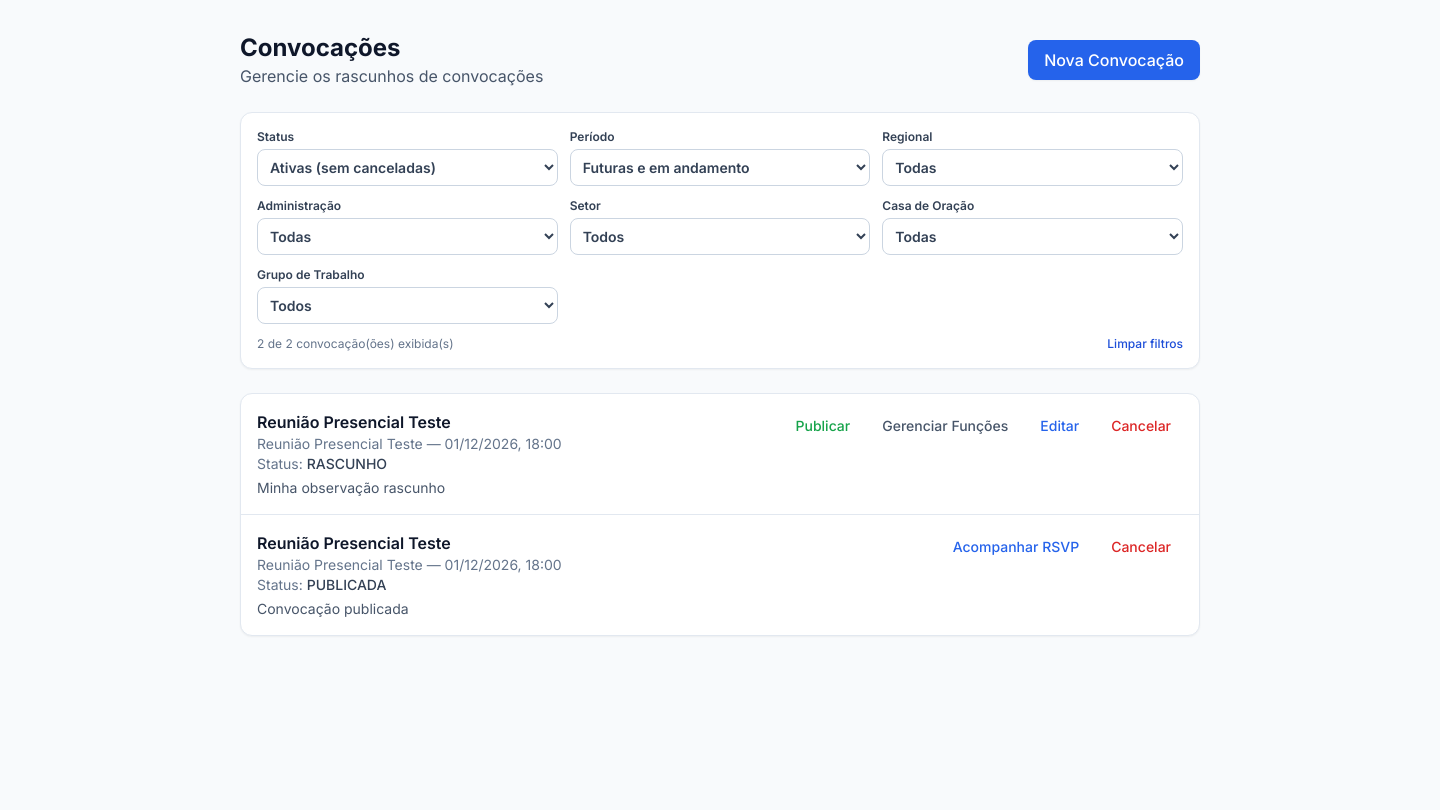
Scenario: ConvocacoesView › Gestão de Funções do Rascunho › deve exibir listas vazias e permitir adicionar/remover função
Expected: the text "Minha observação rascunho" is shown, [257,479,445,496]
Click the button "Gerenciar Funções" at x=945, y=426, box [870,410,1020,442]
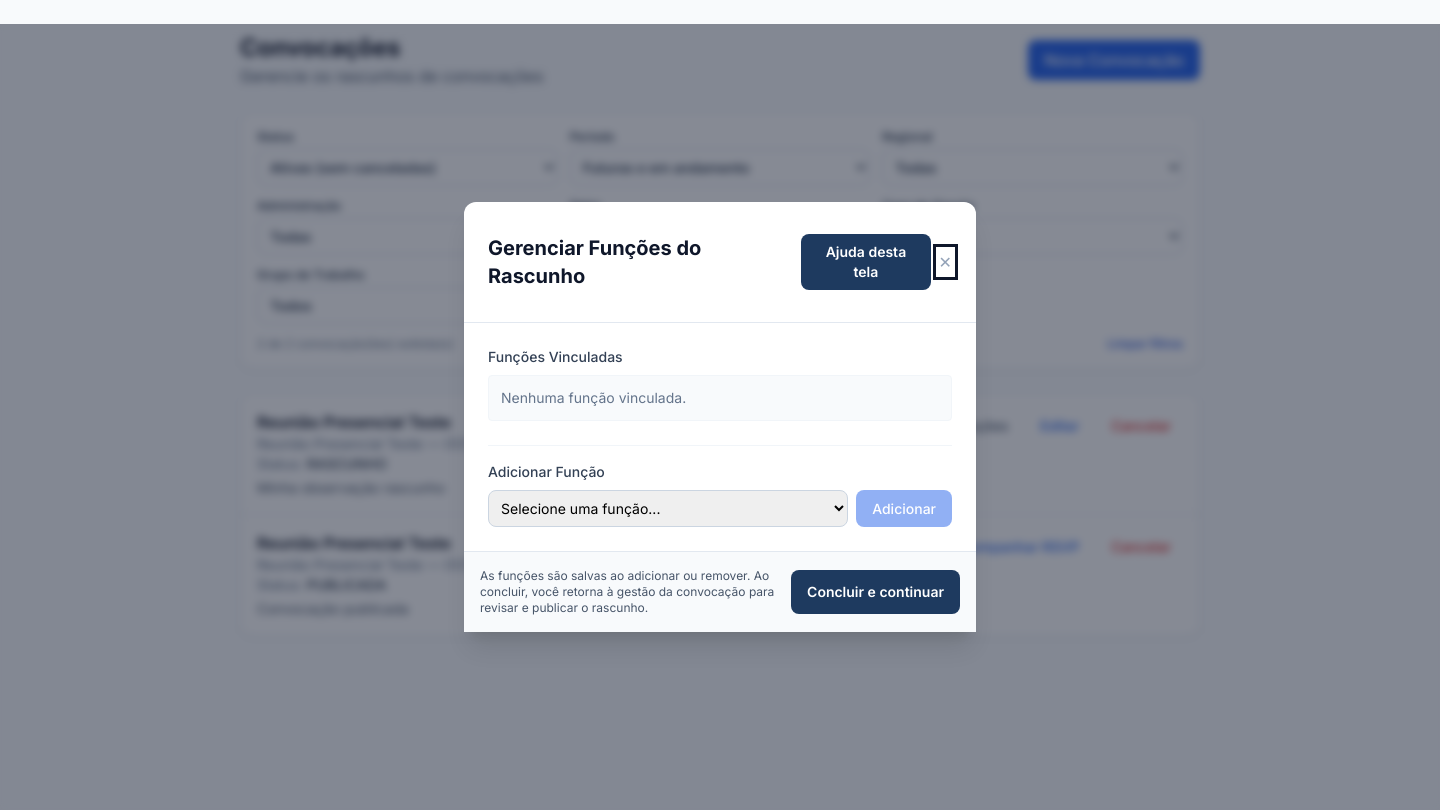
Now the dialog "Gerenciar Funções do Rascunho" is shown
Now the text "Nenhuma função vinculada." is shown, box [488,375,952,421]
Select "Músico" in the dropdown named "Função para adicionar" at x=668, y=508, box [488,490,848,527]
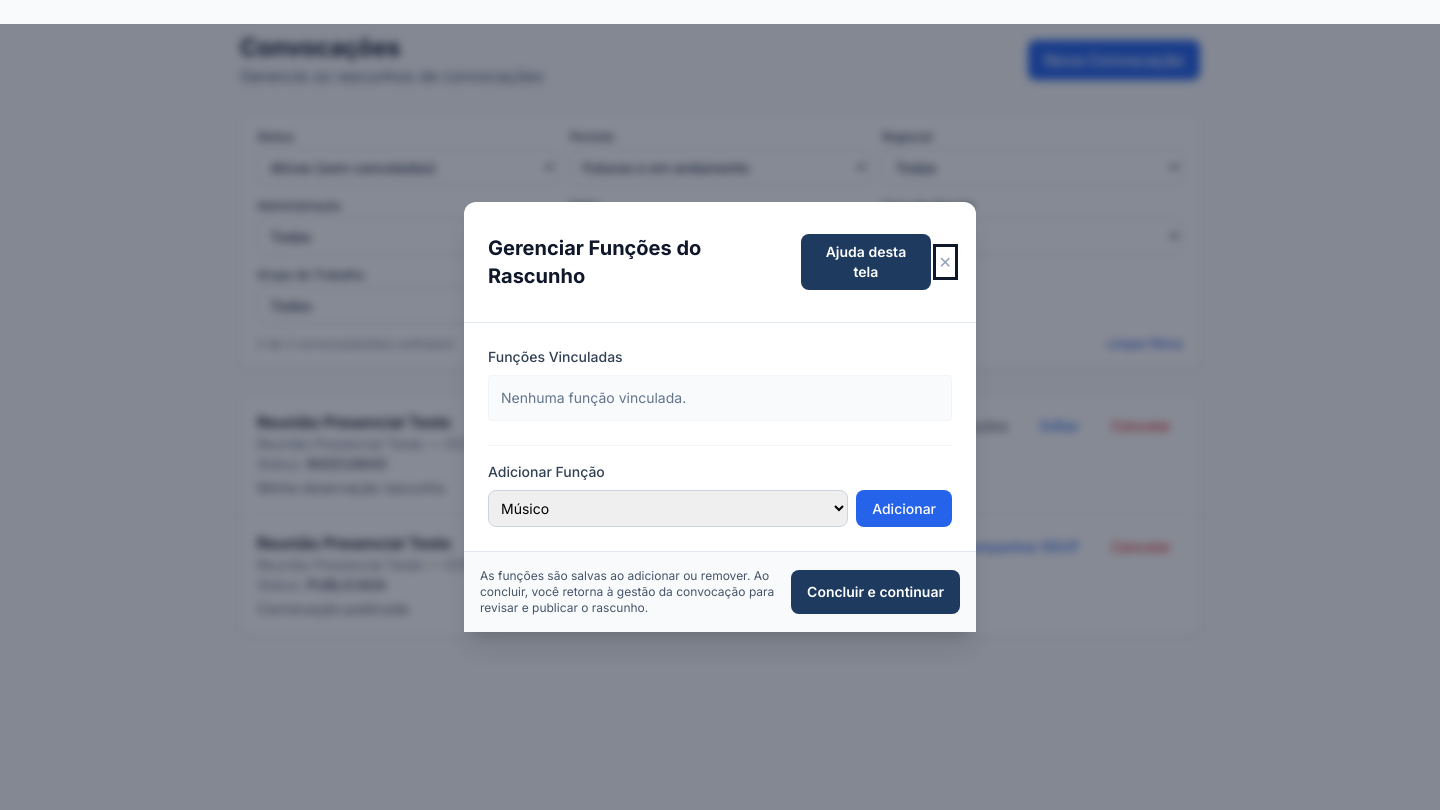
Click the button "Adicionar" at x=904, y=508, box [856,490,952,527]
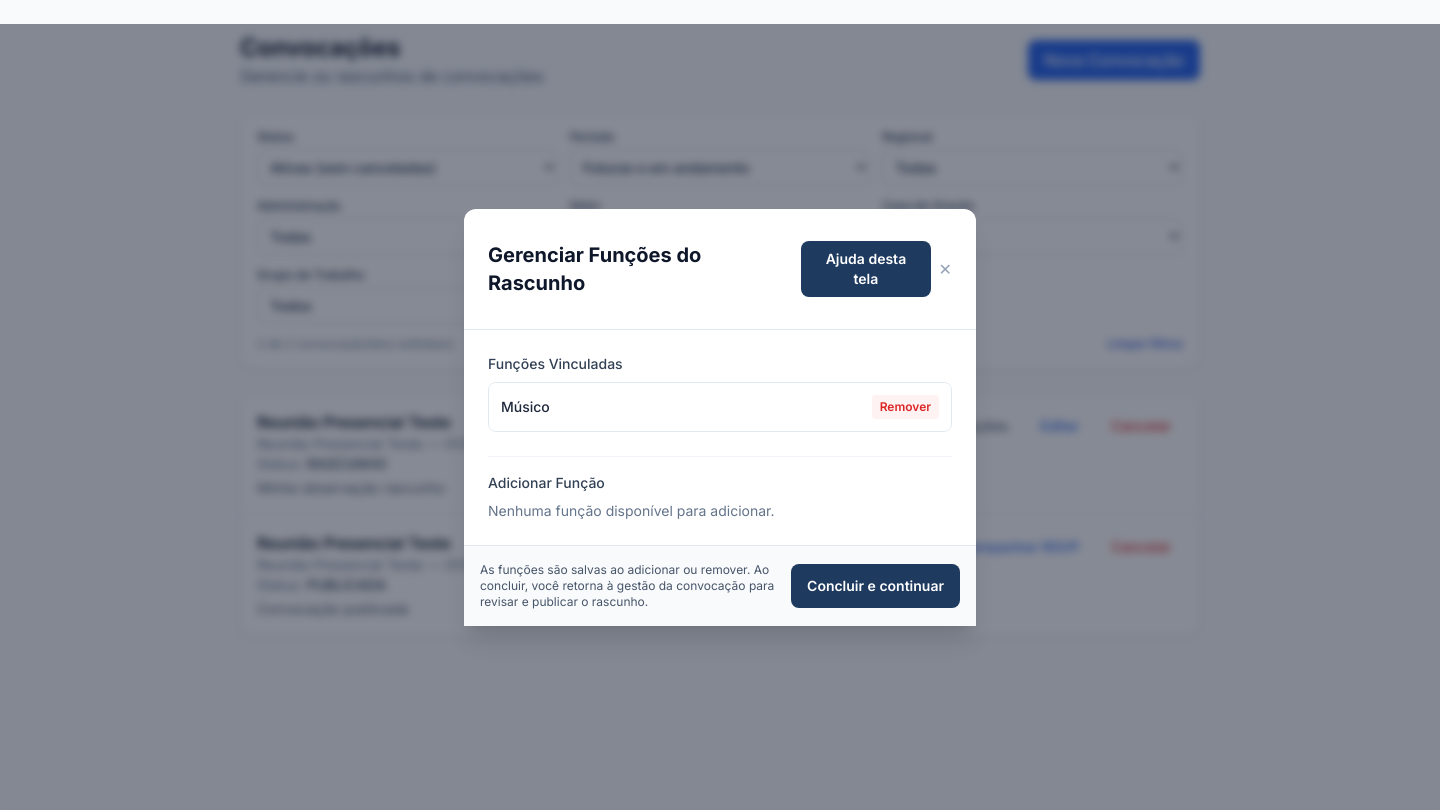
Now the text "Músico" is shown, box [501,396,550,416]
Now the text "Nenhuma função vinculada." is gone
Now the text "Nenhuma função disponível para adicionar." is shown, box [488,502,774,518]
Click the button "Remover" at x=905, y=406, box [872,394,939,418]
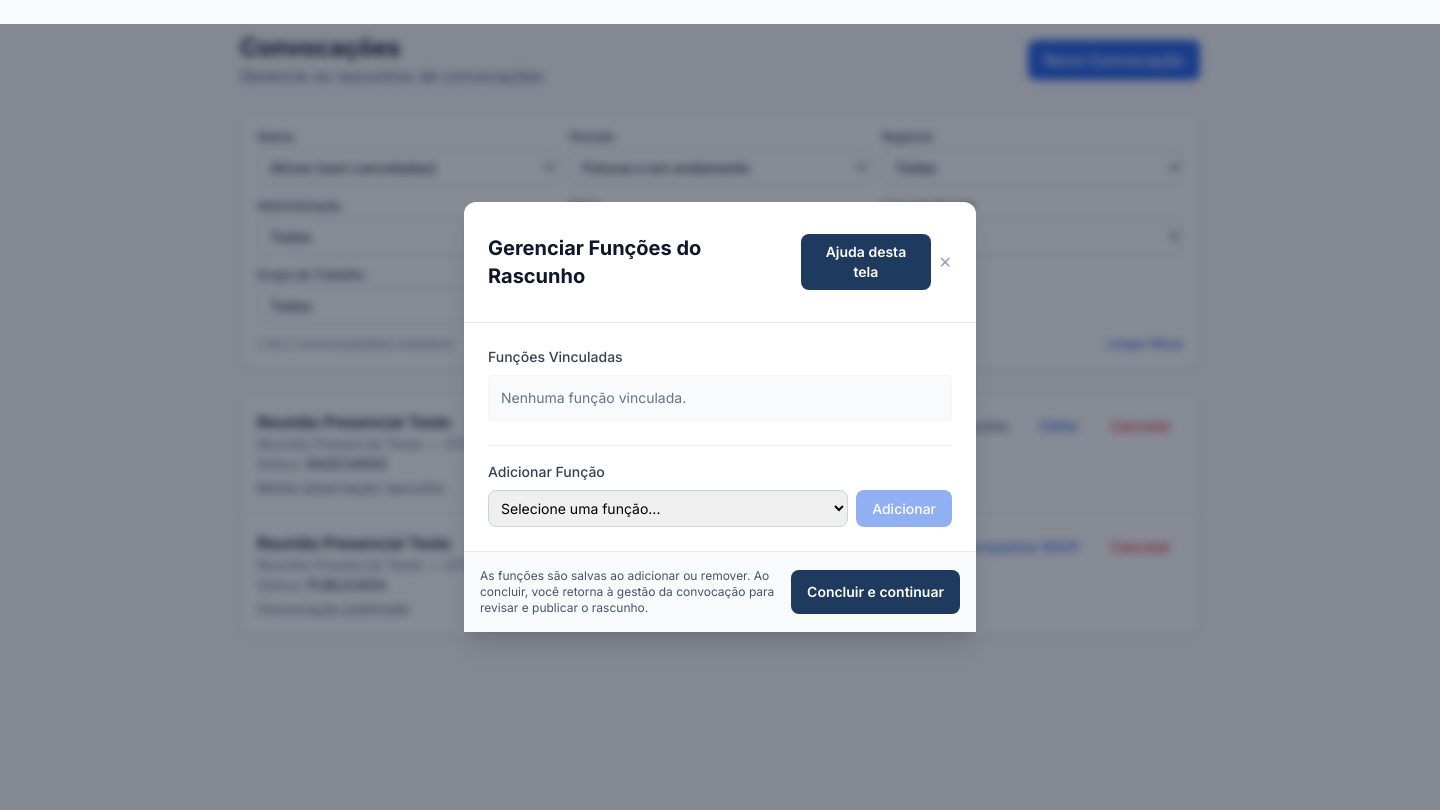
Now the text "Nenhuma função vinculada." is shown, box [488,375,952,421]
